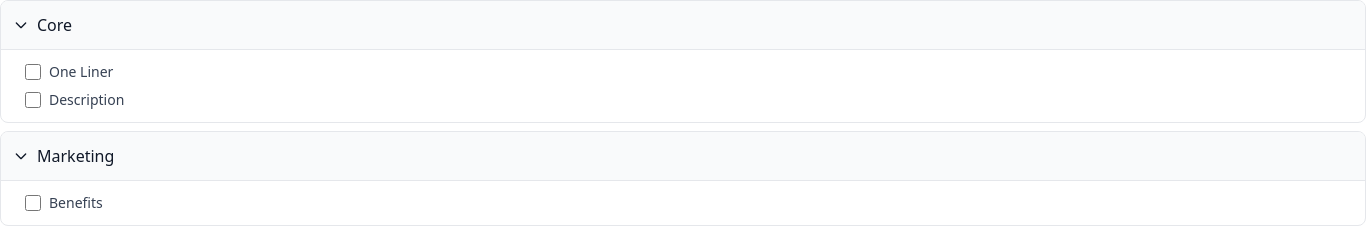
ItemsToDocument › categories are expandable/collapsible
This screenshot has width=1366, height=243.
Expected: the text "One Liner" is shown, [49,62,113,82]
# Click to collapse
Click the button "Core": coordinates (55, 25) [13,13,1353,37]
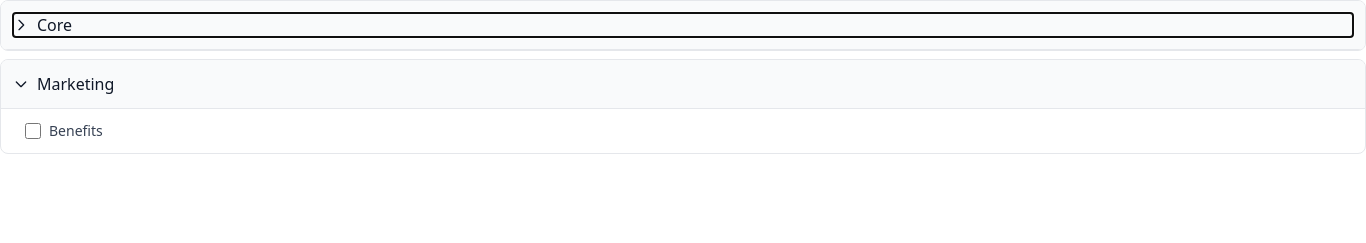
Now the text "One Liner" is gone
